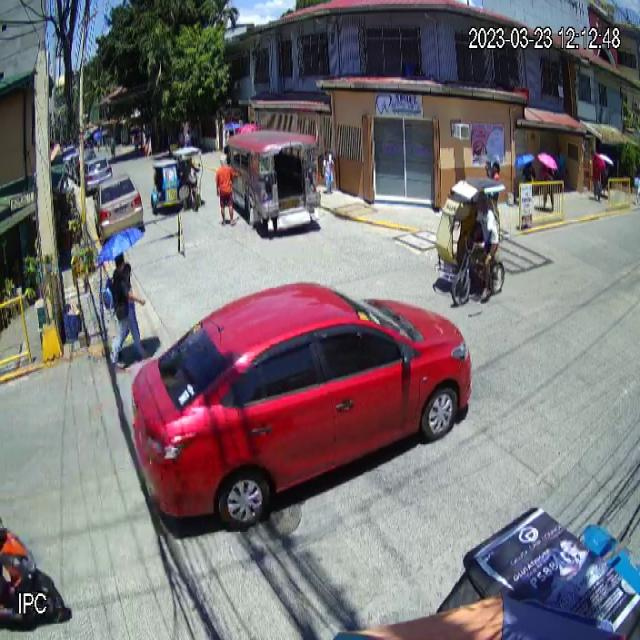Car: (131, 282, 472, 525), (92, 172, 144, 245)
Jeep: (222, 133, 324, 240)
Tricycle: (435, 175, 503, 302), (150, 146, 204, 214)
